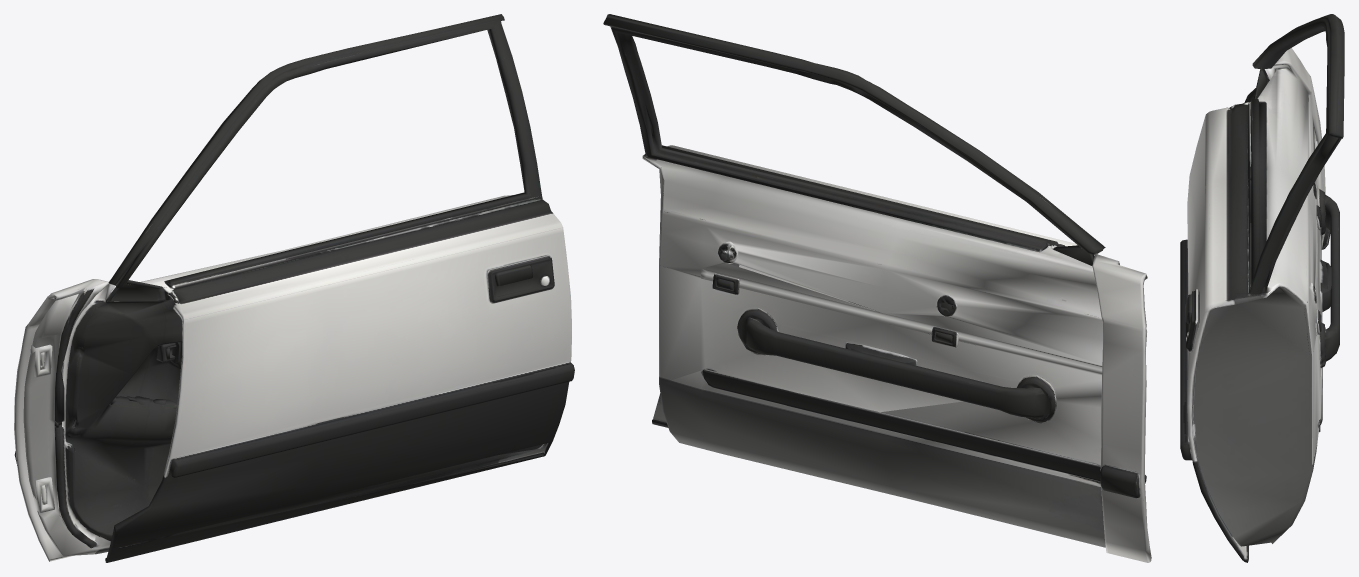
The model's file is original_glb.glb.
3 renders of one model, left to right at view 1: azimuth 30°, elevation 25°; view 2: azimuth 150°, elevation 25°; view 3: azimuth 270°, elevation 25°, orthographic. The views are drawn at different scales.
Parts seen in each view (by area): view 1: right front door; view 2: right front door; view 3: right front door.
Boxes of the visible parts, <box> form: right front door: <box>14,14,574,562</box>; right front door: <box>603,14,1151,562</box>; right front door: <box>1180,14,1344,562</box>.
Bounding box in the file's own units: 0.998 × 0.8027 × 0.2754.
1 material, 1 textured.
